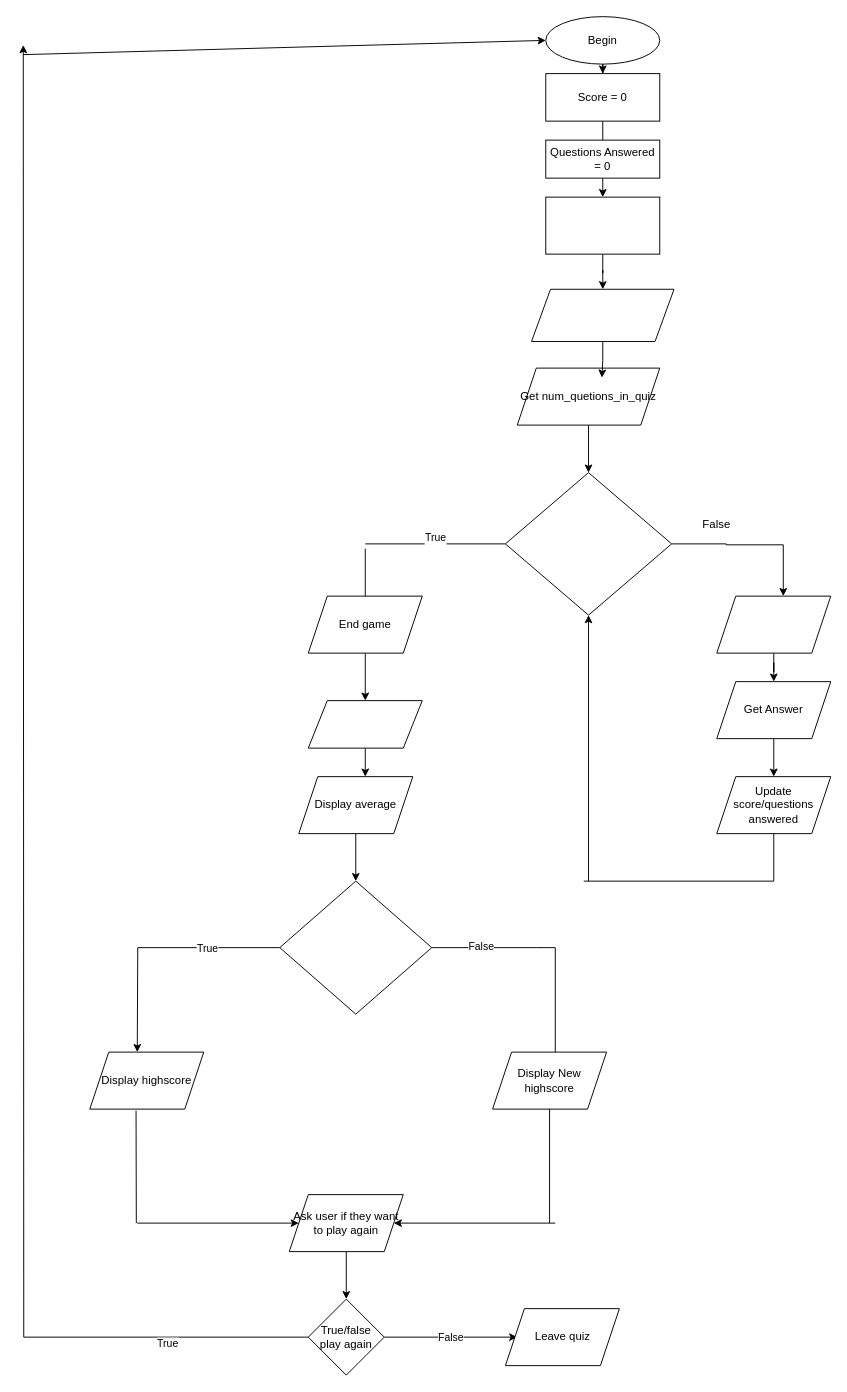
The diagram is 847 pixels wide and 1392 high, and some of its shapes have lost their labels. Here are the shapes that lost their labels. From the top down, the box of each, then its label:
(545, 196, 660, 254): Get questions from database
(531, 288, 674, 342): Display topics to choose from
(504, 472, 672, 615): Is Questions Anwered == num_questions in quiz
(716, 595, 831, 653): Display Question
(307, 700, 422, 748): Display score
(279, 880, 432, 1014): Is high score > user average
